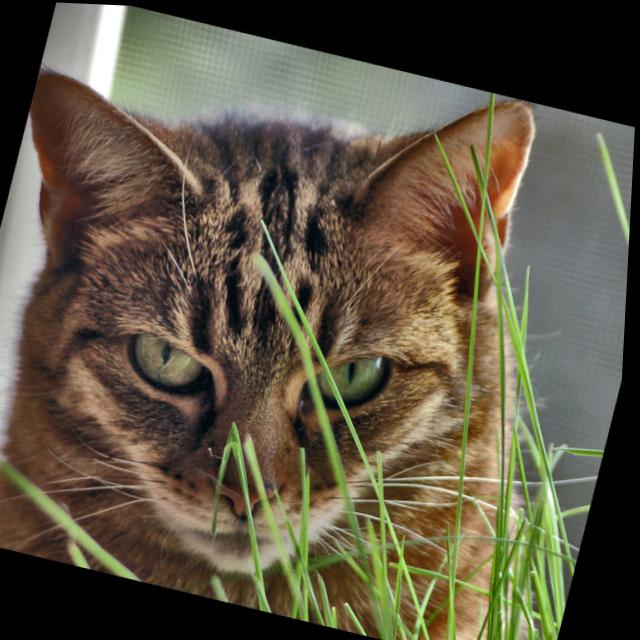animals: (0, 0, 543, 557)
